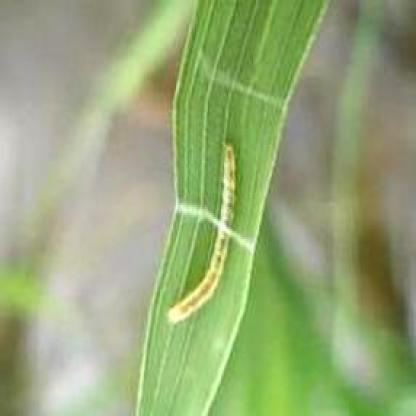leaf-folder: (154, 138, 254, 334)
